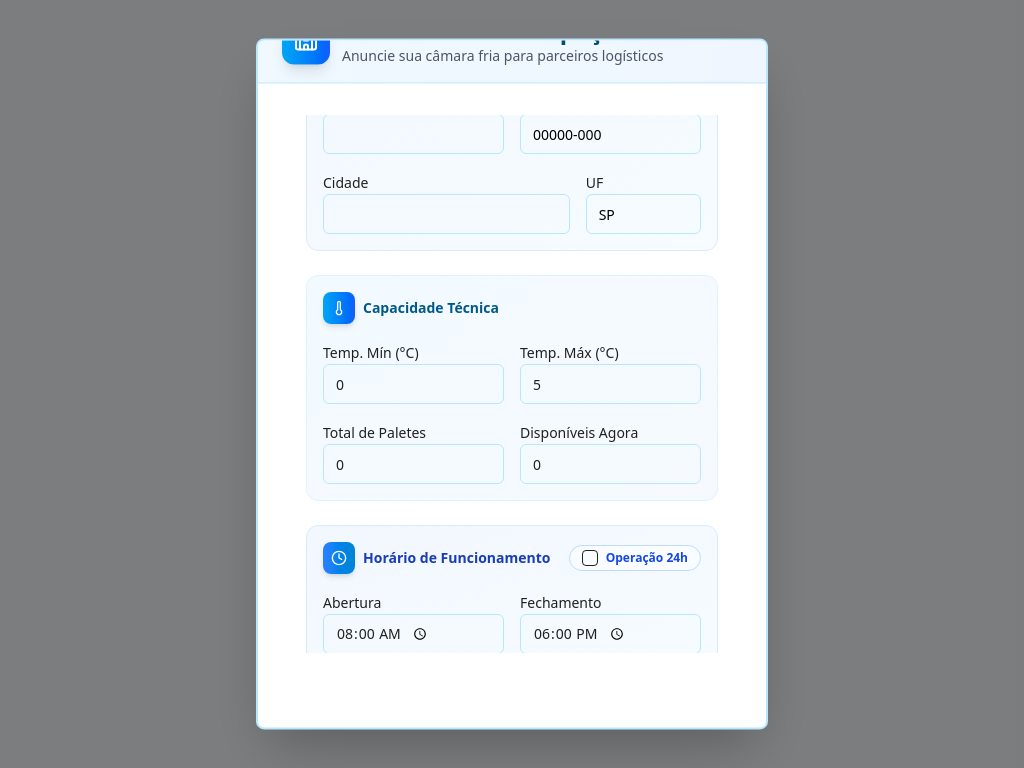
it: SpaceFormDialog › deve exibir erro de validação se a temperatura mínima for maior que a máxima
The image size is (1024, 768).
(page scrolled)
Clear the number field labelled "Temp. Mín (°C)" at (414, 384), box [323,364,504,404]
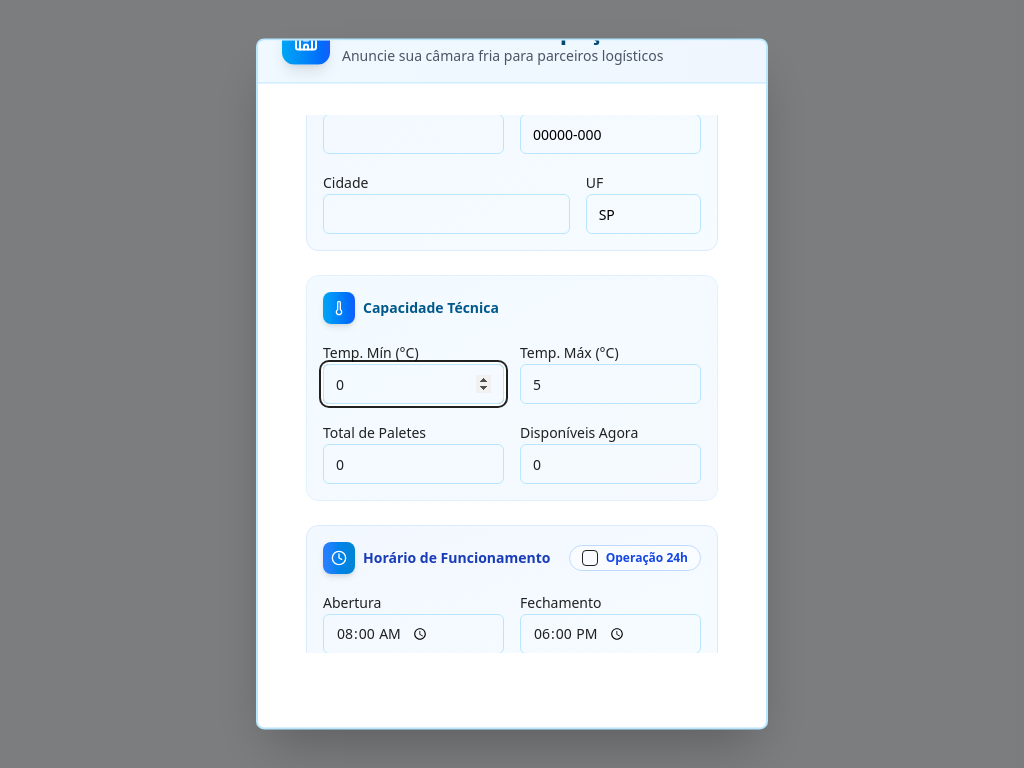
Clear the number field labelled "Temp. Máx (°C)" at (610, 384), box [520,364,701,404]
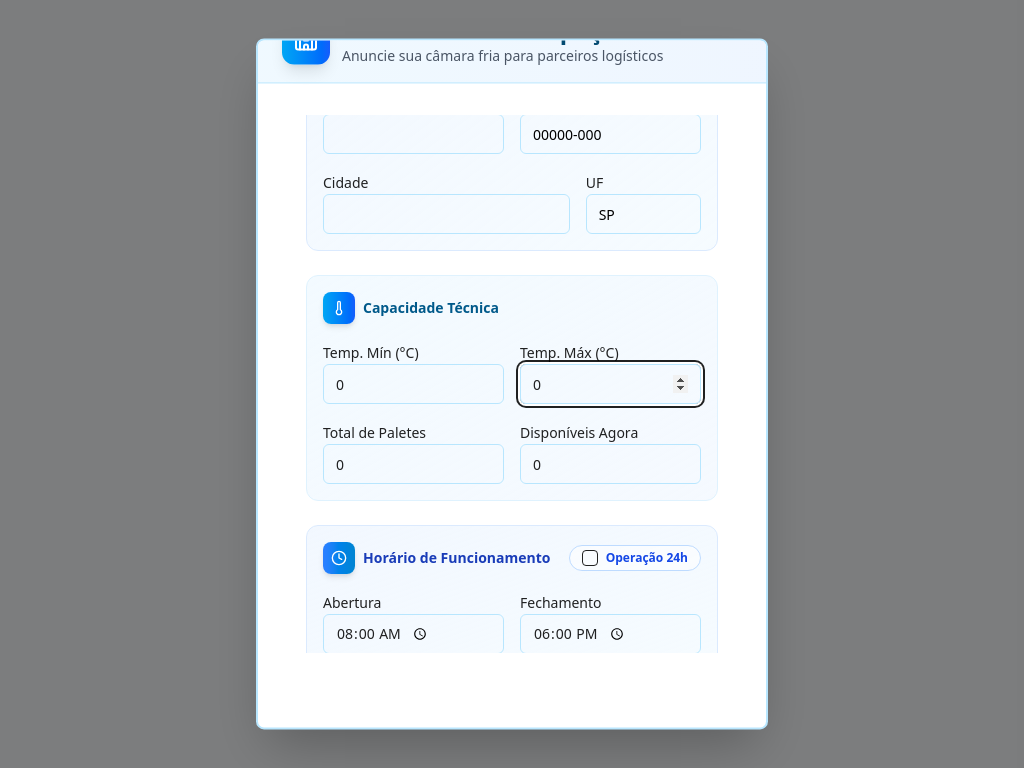
Type "10" into the number field labelled "Temp. Mín (°C)" at (414, 384), box [323,364,504,404]
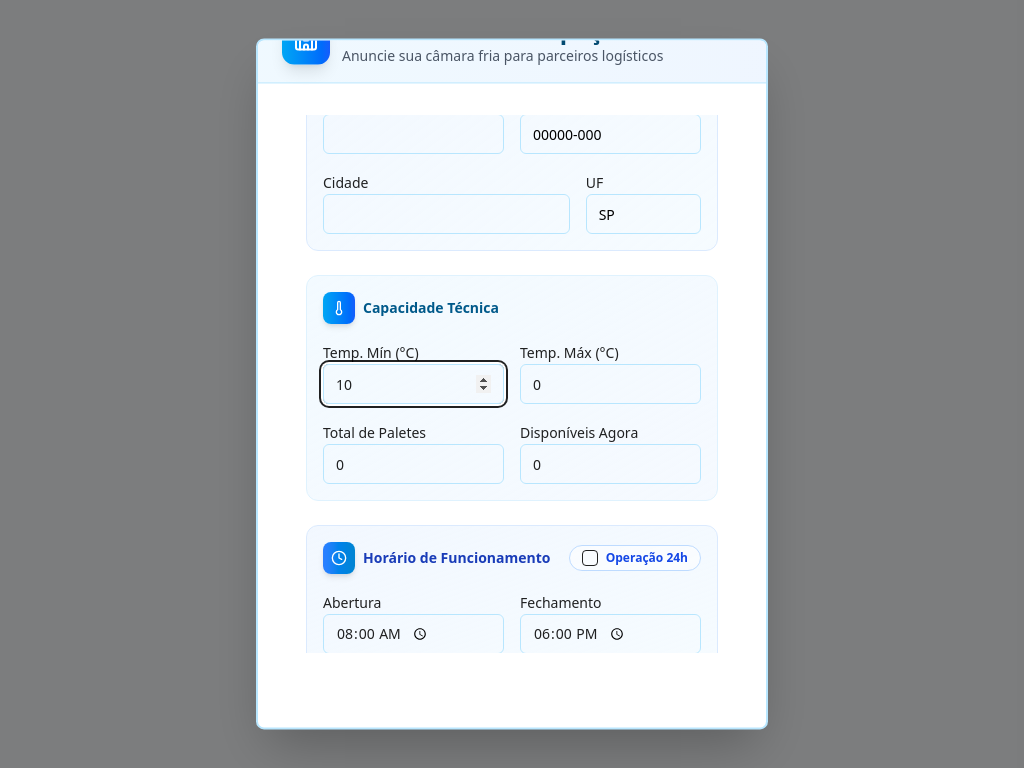
Type "5" into the number field labelled "Temp. Máx (°C)" at (610, 384), box [520,364,701,404]
(page scrolled)
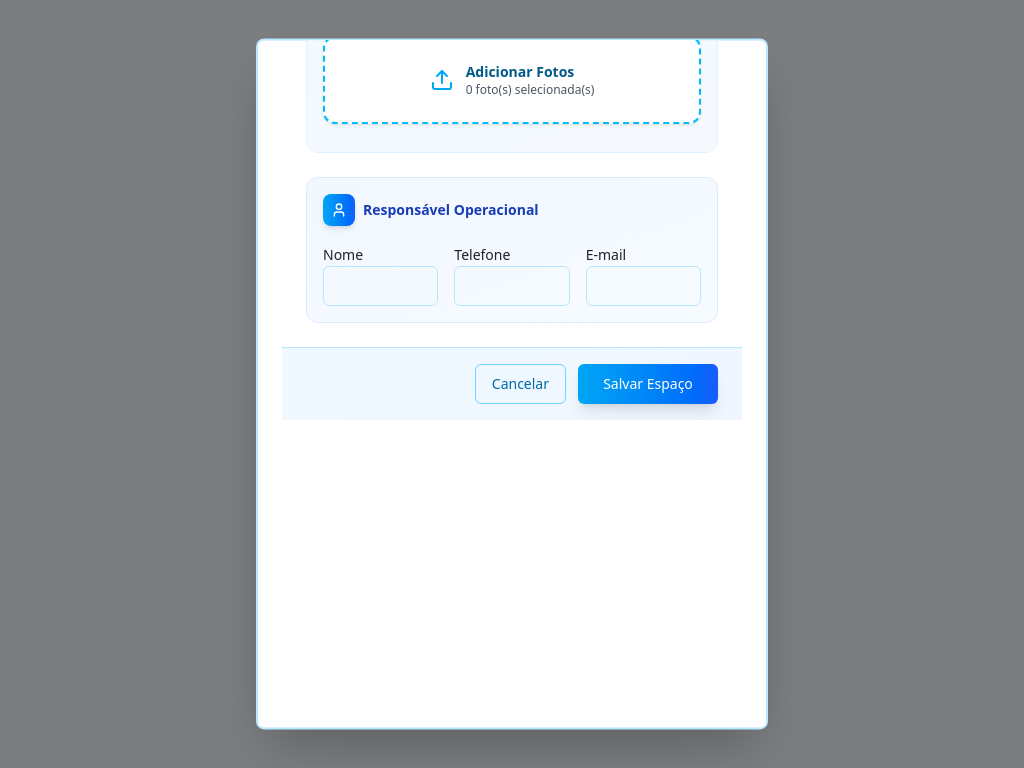
Click the button "Salvar Espaço" at (648, 384), box [578,364,718,404]
(page scrolled)
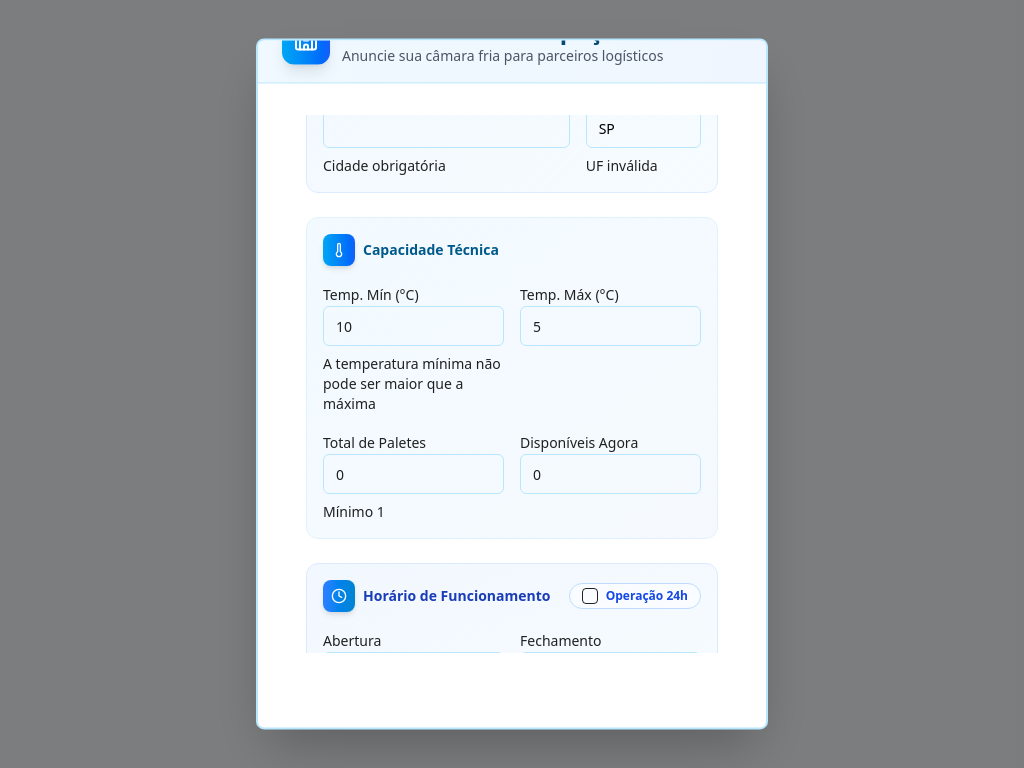
Expected: the text "A temperatura mínima não pode ser maior que a máxima" is shown, [323,354,504,414]
